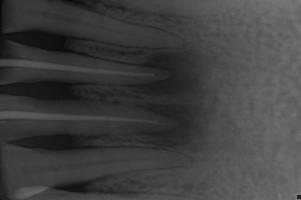Furcation Involvement: (130, 52, 204, 97), (136, 103, 199, 147)
